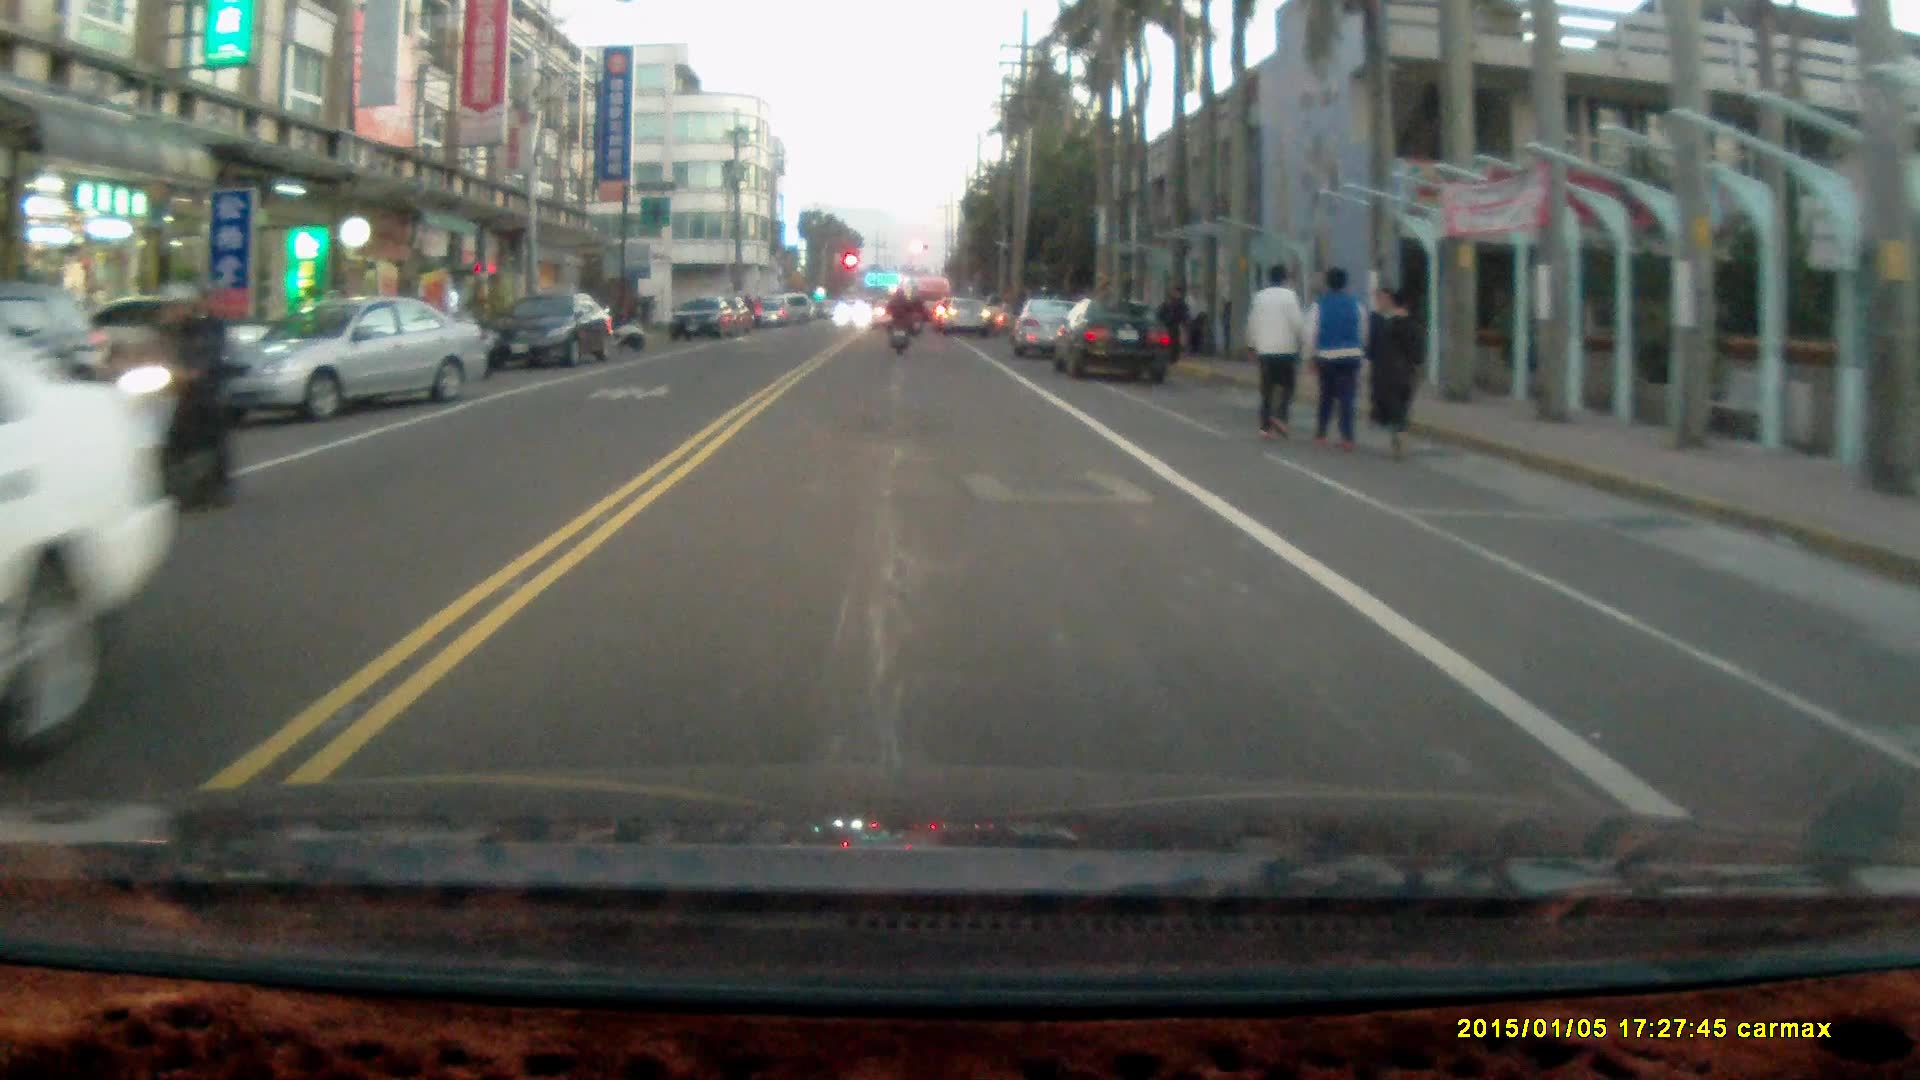pedestrian: (1297, 263, 1370, 454), (1245, 261, 1308, 443), (1371, 285, 1428, 457), (1157, 280, 1193, 361), (1179, 279, 1209, 361)
rider: (94, 277, 236, 529), (882, 283, 913, 354)
vehicle: (210, 293, 493, 418), (1053, 294, 1177, 381), (495, 288, 615, 368), (1016, 298, 1087, 361), (668, 299, 741, 344)
